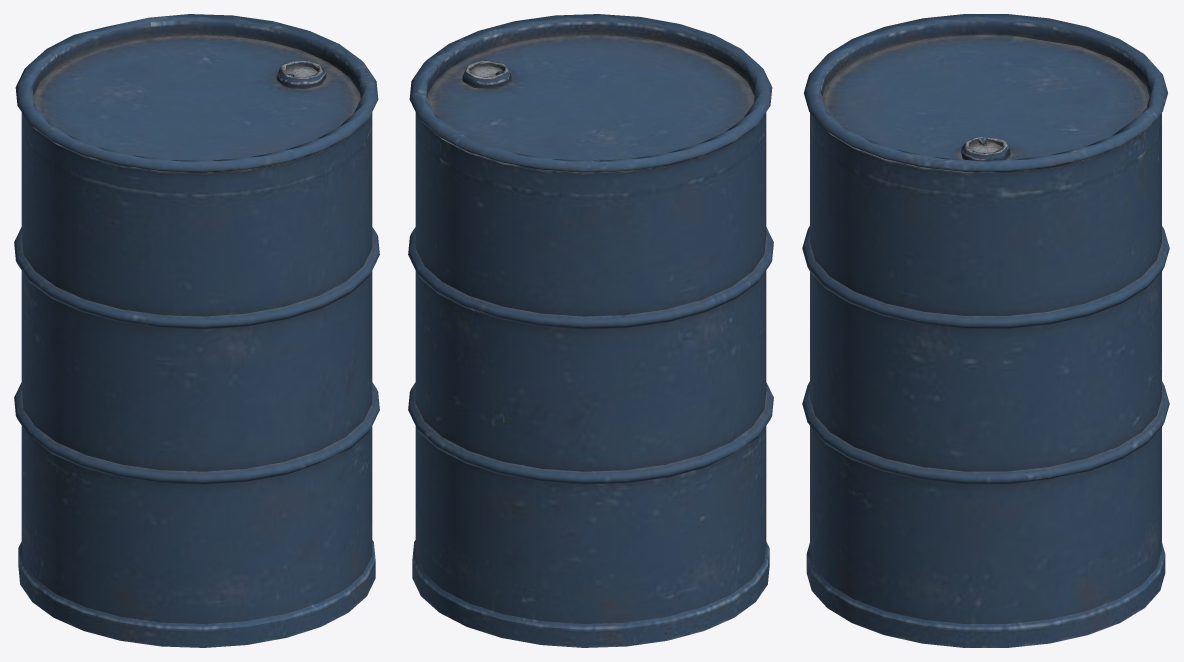
The model's file is barrel_03.glb.
The picture shows the model from 3 angles, left to right: view 1: azimuth 30°, elevation 25°; view 2: azimuth 150°, elevation 25°; view 3: azimuth 270°, elevation 25°; orthographic projection.
Visible parts, largest first — view 1: barrel_03; view 2: barrel_03; view 3: barrel_03.
Part boxes in pixels (left/top/right/bottom): barrel_03: left=14, top=14, right=379, bottom=647; barrel_03: left=408, top=14, right=773, bottom=647; barrel_03: left=802, top=14, right=1169, bottom=647.
Bounding box in the file's own units: 0.6339 × 0.9305 × 0.6386.
Materials: 1 (1 with a texture image).
